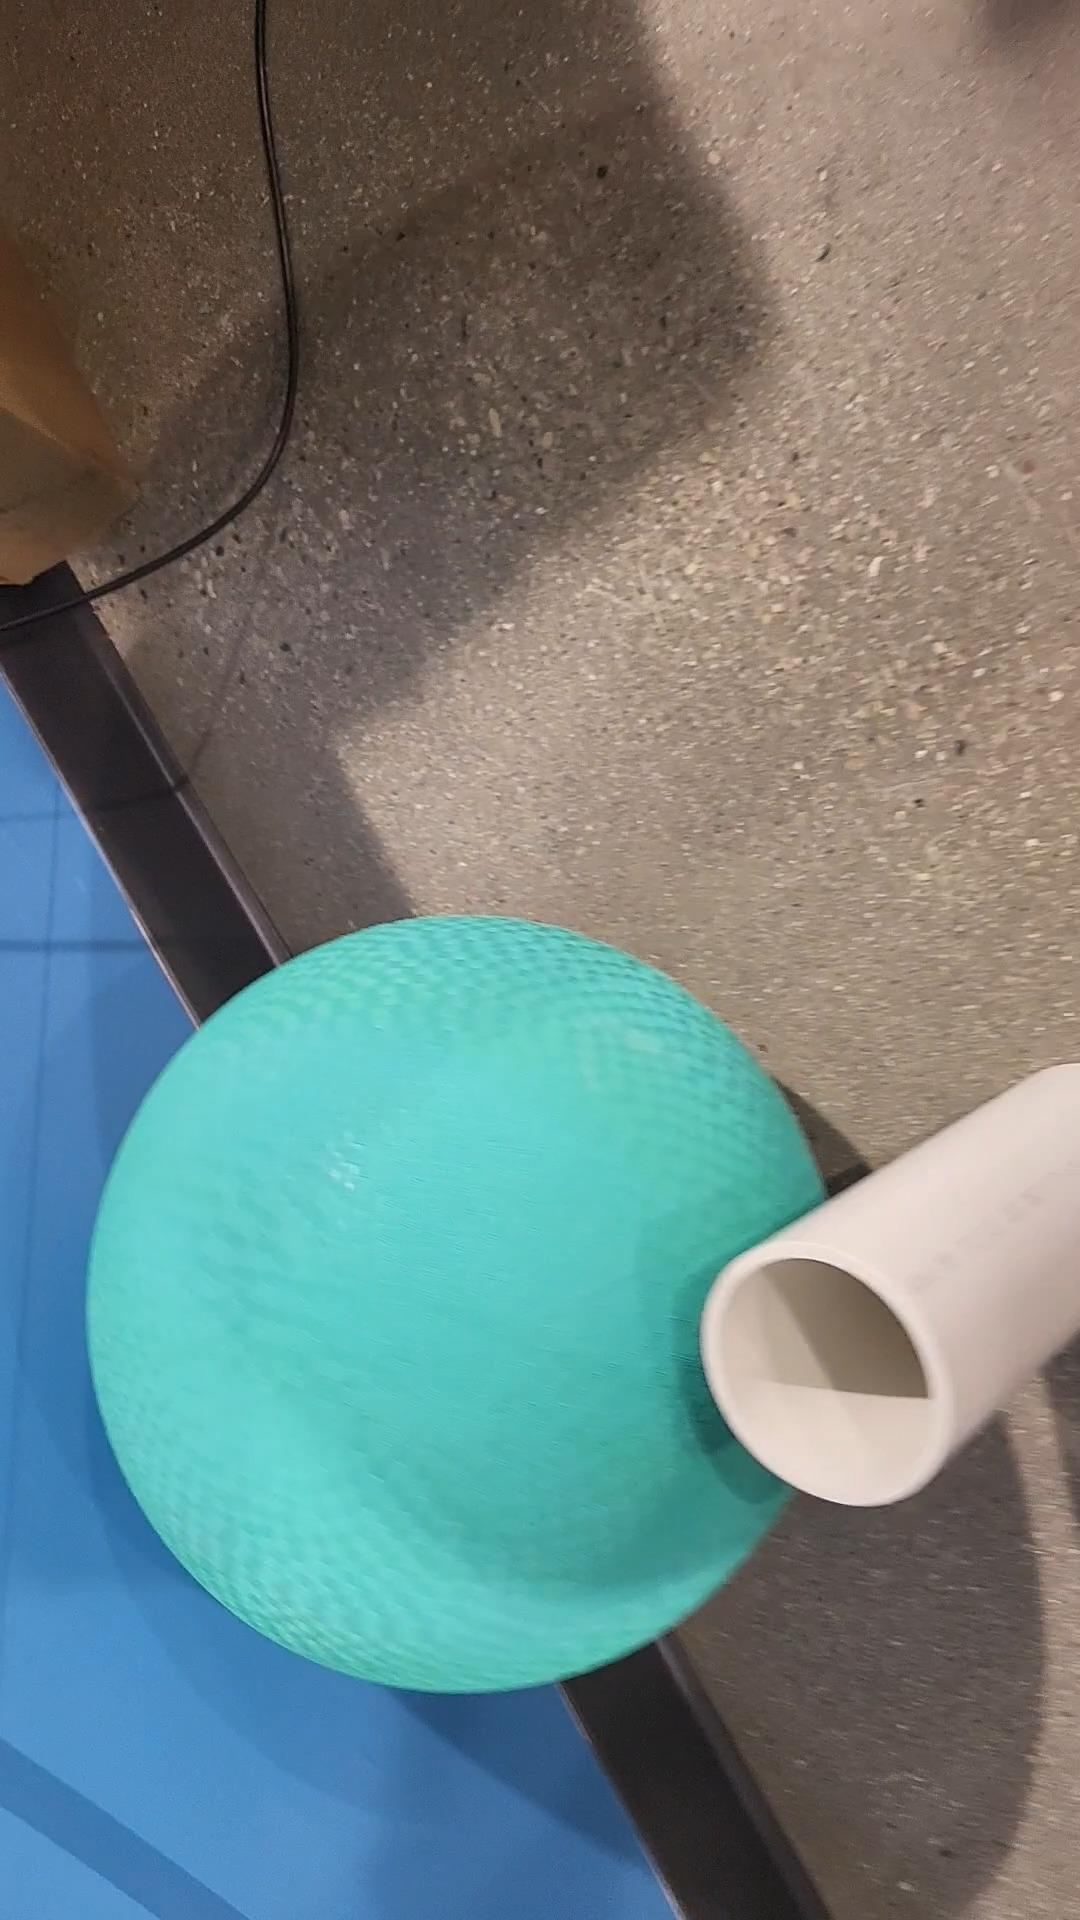algae: (90, 915, 828, 1695)
coral: (705, 1058, 1080, 1505)
